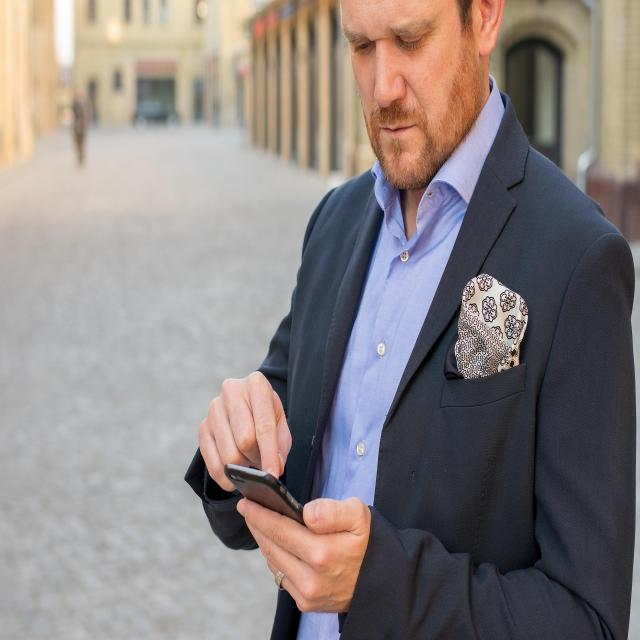Mobile: (211, 429, 335, 612)
